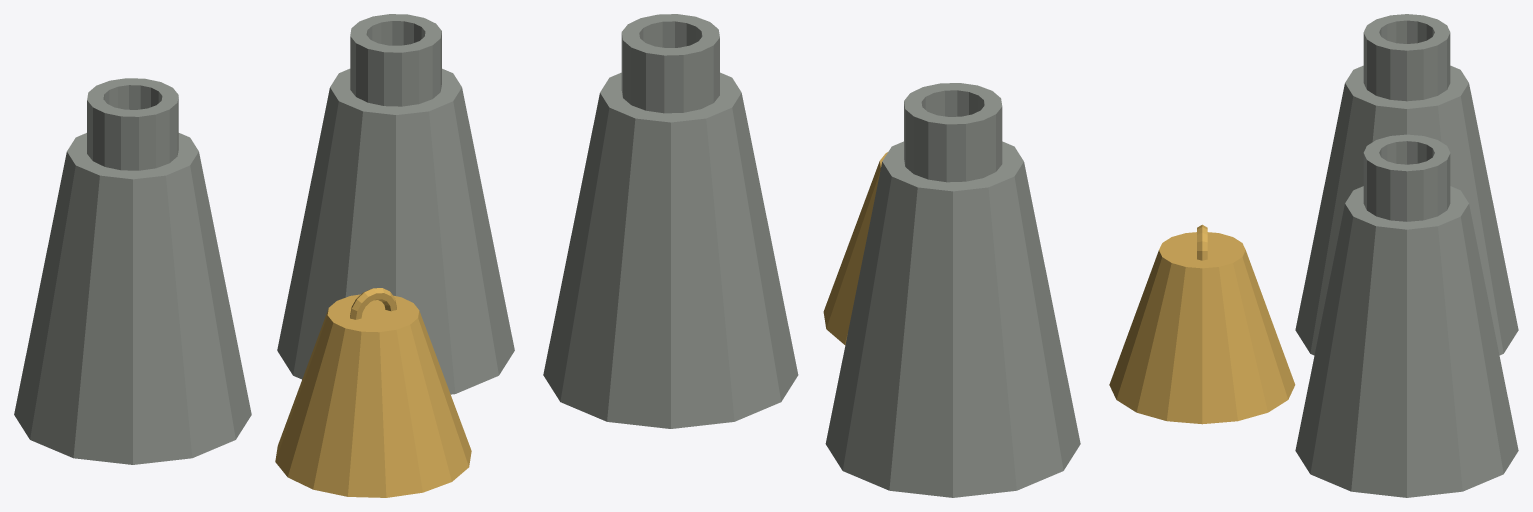
File: Bell_Casting_Mold.glb
3 views of the same model, side by side, from view 1: azimuth 30°, elevation 25°; view 2: azimuth 150°, elevation 25°; view 3: azimuth 270°, elevation 25° (orthographic). The views are drawn at different scales.
Visible parts, largest first — view 1: Bell_Casting_Mold; view 2: Bell_Casting_Mold; view 3: Bell_Casting_Mold.
Boxes of the visible parts, x1,y1,x2,y2 form: Bell_Casting_Mold: (14, 14, 514, 497); Bell_Casting_Mold: (543, 14, 1080, 497); Bell_Casting_Mold: (1109, 14, 1518, 497).
Size of the model in its own units: 0.82 by 0.53 by 0.66.
